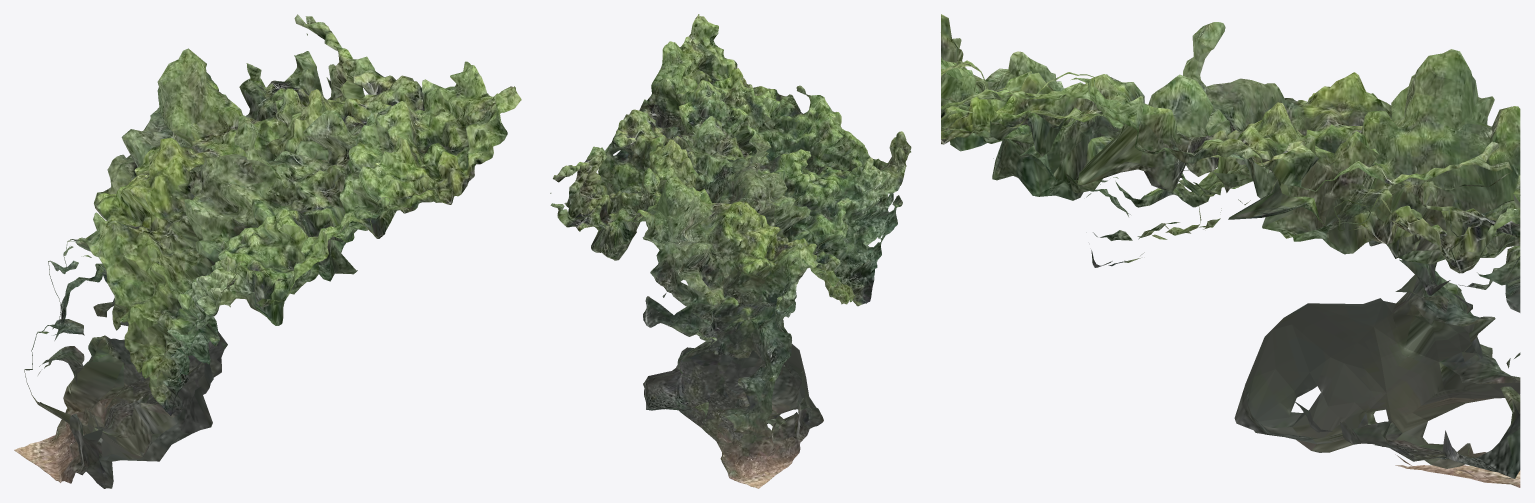
File: BlockBBYA_L20_26.glb
The picture shows the model from 3 angles, left to right: view 1: azimuth 30°, elevation 25°; view 2: azimuth 150°, elevation 25°; view 3: azimuth 270°, elevation 25°; orthographic projection. The views are drawn at different scales.
Visible parts, largest first — view 1: rtc; view 2: rtc; view 3: rtc.
Boxes of the visible parts, x1,y1,x2,y2 form: rtc: (14, 14, 521, 488); rtc: (550, 14, 911, 488); rtc: (941, 14, 1520, 487).
Bounding box in the file's own units: 13.26 × 19.21 × 16.83.
Materials: 5 (5 with a texture image).
